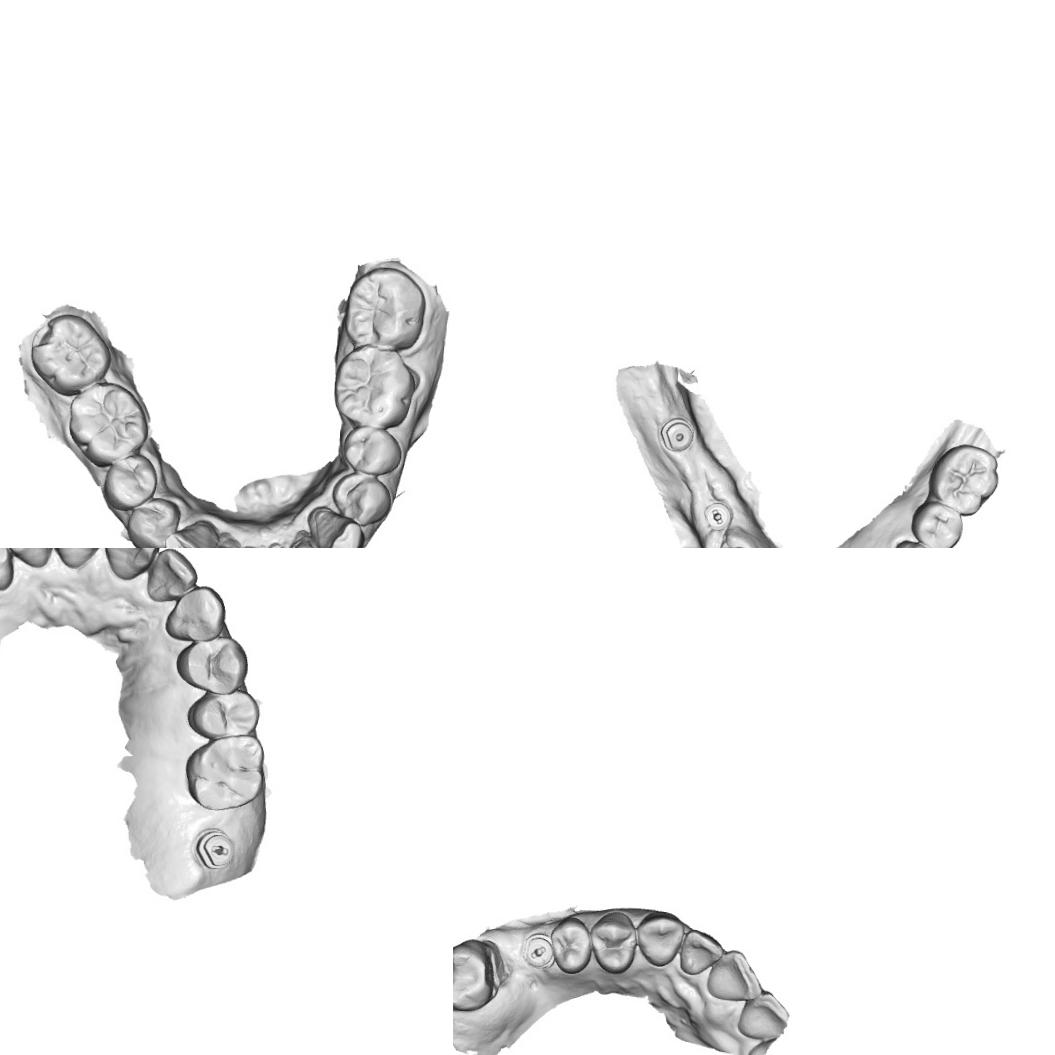canine: (162, 582, 229, 644), (633, 909, 686, 968), (307, 506, 367, 548), (161, 518, 220, 548)
implant: (658, 416, 696, 453)
implant_minus: (192, 828, 238, 872), (522, 932, 556, 969), (702, 500, 734, 532)
incisor: (705, 948, 765, 1002), (144, 548, 200, 604), (736, 988, 790, 1042), (680, 928, 724, 977), (100, 548, 161, 582), (45, 548, 107, 571), (0, 548, 53, 569), (289, 534, 335, 548)
molar: (64, 380, 152, 470), (342, 259, 422, 356), (28, 311, 115, 400), (331, 342, 418, 430), (181, 730, 268, 814), (927, 442, 1001, 518), (453, 936, 501, 1013)
premolar: (173, 634, 250, 698), (184, 685, 262, 742), (328, 470, 393, 530), (101, 450, 160, 512), (340, 424, 405, 476), (588, 910, 638, 976), (124, 493, 182, 548), (908, 499, 965, 548), (548, 914, 592, 976), (891, 538, 940, 548)
